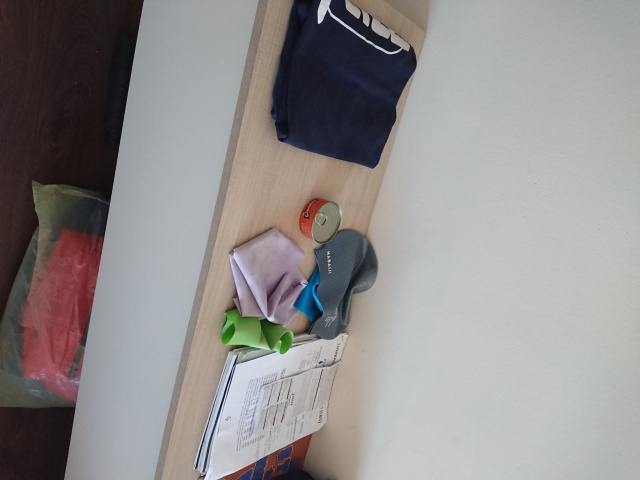Gavrilovic Pork Liver Pate 100g: (297, 195, 342, 244)
